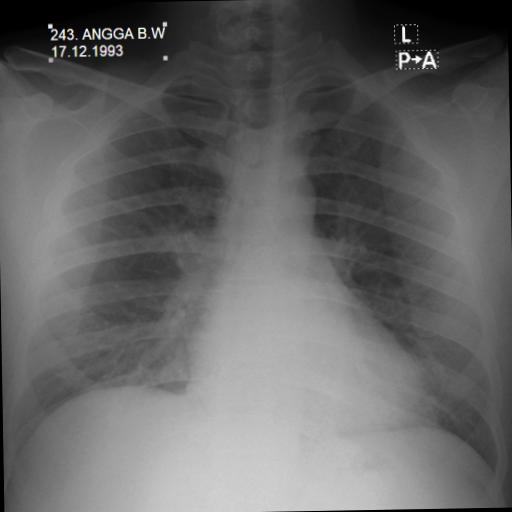kardiomegali: (2, 42, 510, 494)
